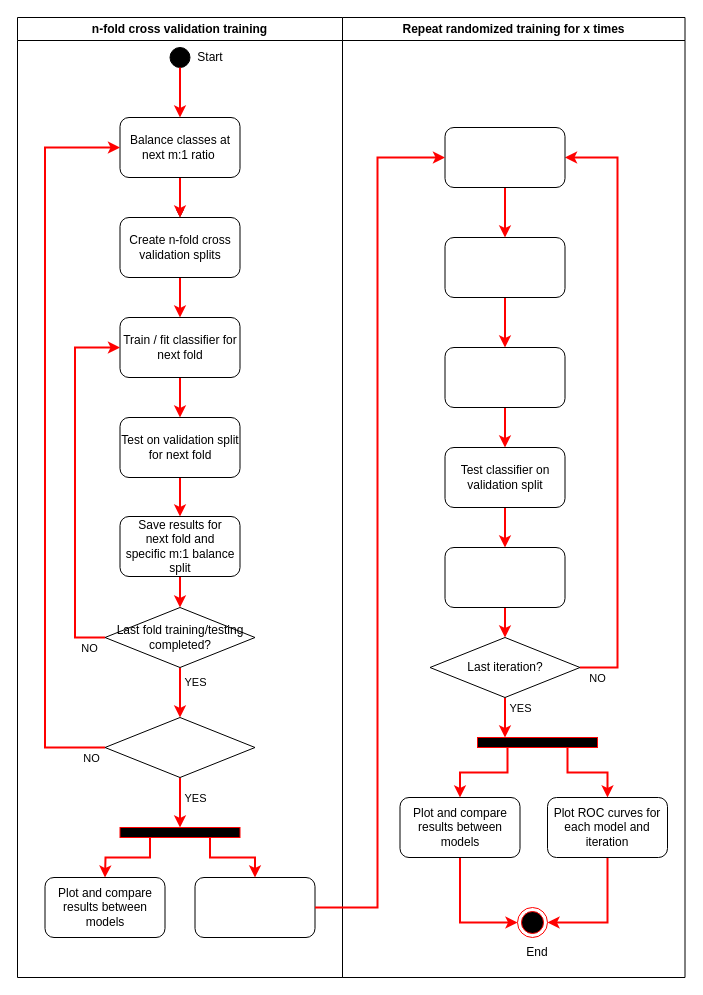
This 703x995 diagram has some shape labels left out. The centre of each missing label's shape, as x and y in pixels:
"Balance classes using m:1 ratio from best performing model" belongs at (x=504, y=267).
"Keep dataset class balance for best model performance" belongs at (x=254, y=907).
"Last m:1 balanced dataset?" belongs at (x=179, y=747).
"Save results" belongs at (x=504, y=577).
"Shuffle dataset" belongs at (x=504, y=157).
"Train / fit classifier" belongs at (x=504, y=377).
